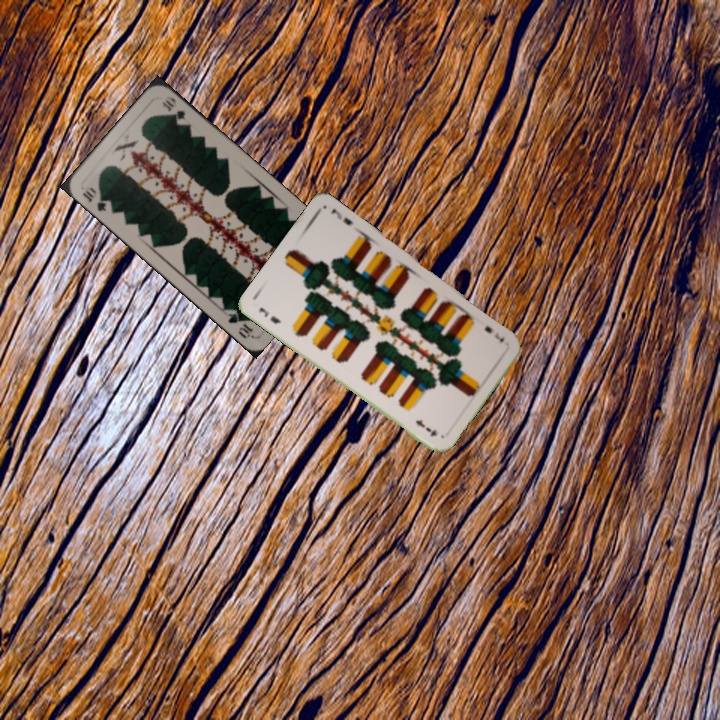E7: (254, 303, 284, 326), (480, 322, 507, 345)
G10: (78, 186, 109, 214)
